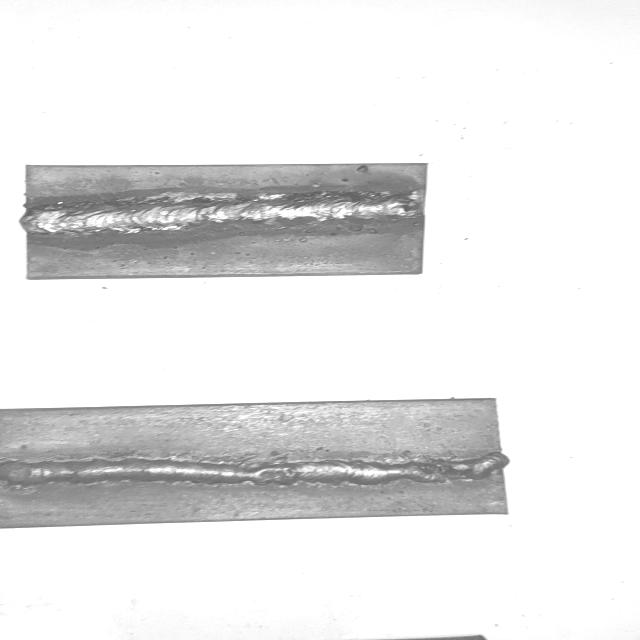Bad Weld: (0, 452, 501, 487)
Defect: (396, 445, 503, 491)
Good Weld: (30, 193, 421, 239)
